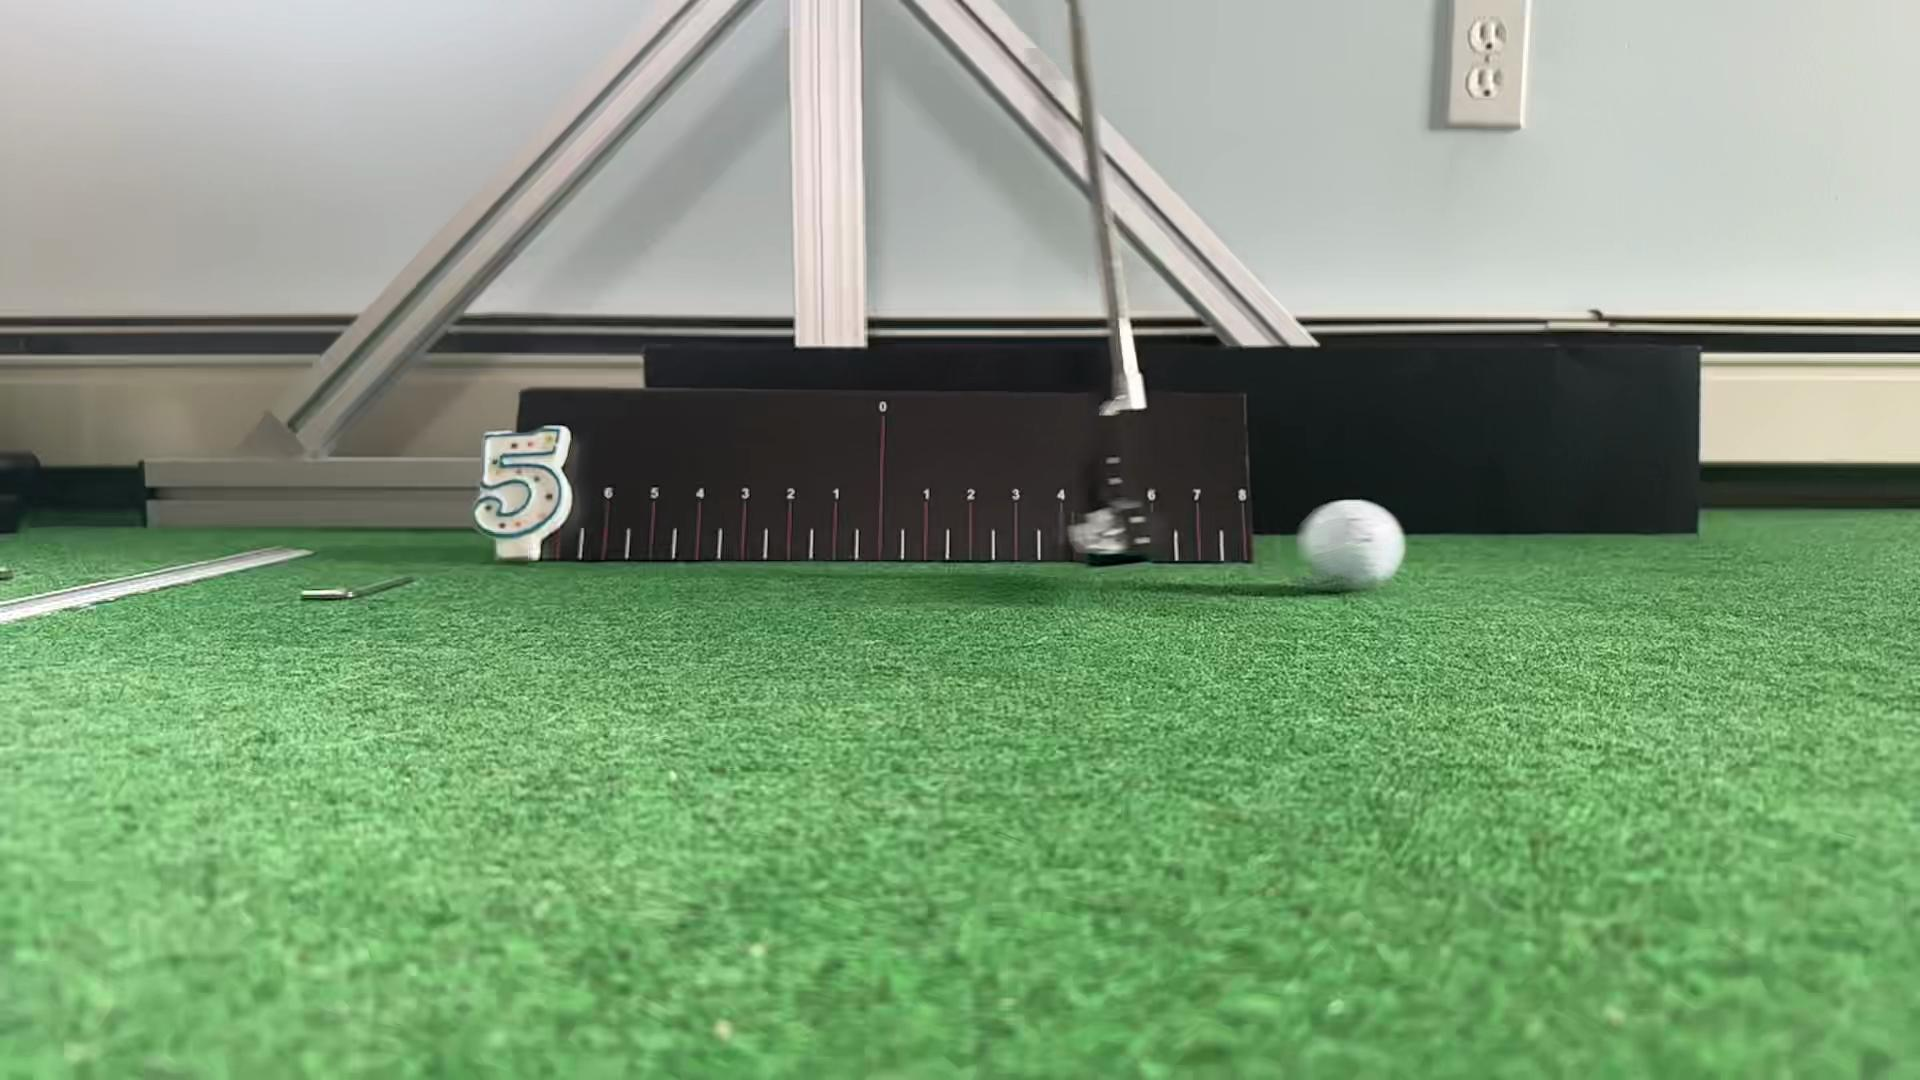golfball: (1301, 500, 1405, 591)
